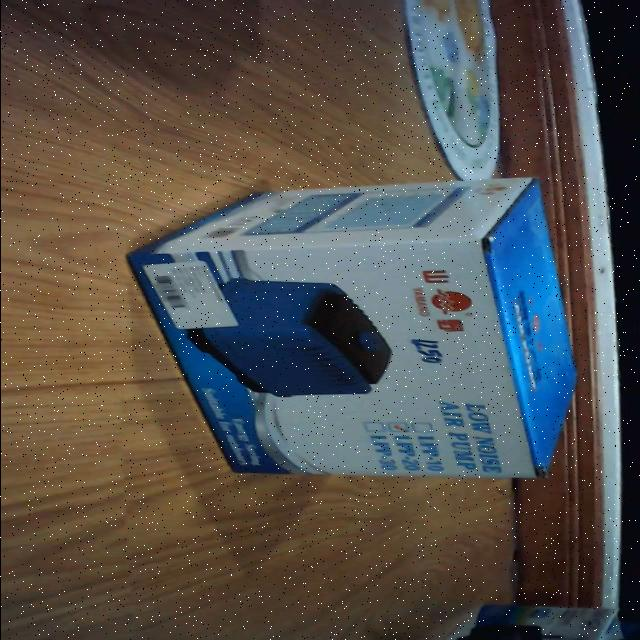YAMANO_LPP_20: (118, 168, 602, 496)
